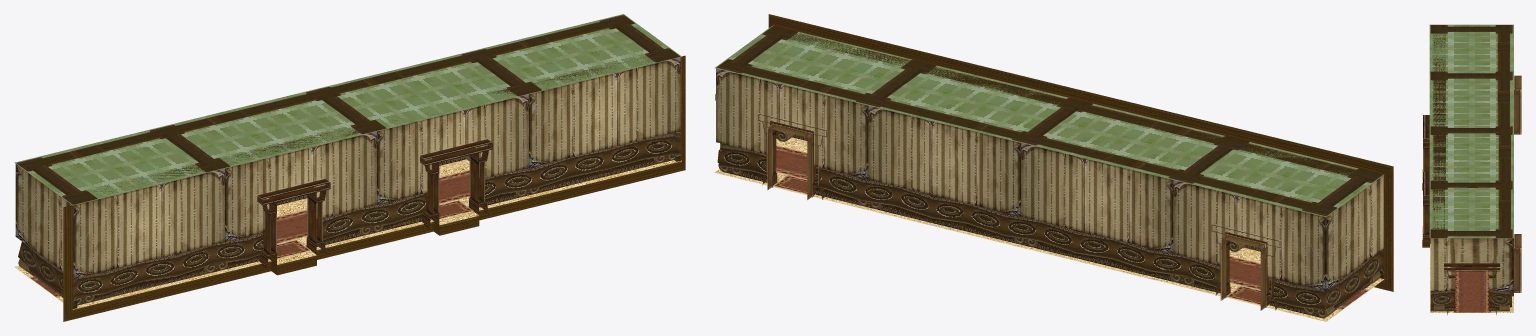
File: room_29.glb
3 views of the same model, side by side, from view 1: azimuth 30°, elevation 25°; view 2: azimuth 150°, elevation 25°; view 3: azimuth 270°, elevation 25° (orthographic). The views are drawn at different scales.
Parts seen in each view (by area): view 1: room_29; view 2: room_29; view 3: room_29.
Boxes of the visible parts, left/top/right/bottom form: room_29: left=14, top=14, right=685, bottom=321; room_29: left=715, top=14, right=1393, bottom=321; room_29: left=1422, top=24, right=1521, bottom=315.
Size of the model in its own units: 3150 by 600 by 600.
20 materials, 20 textured.
